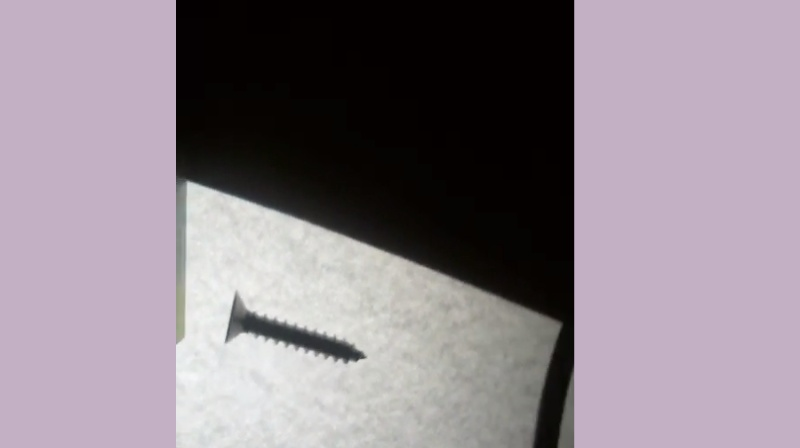S001: (220, 286, 369, 367)
